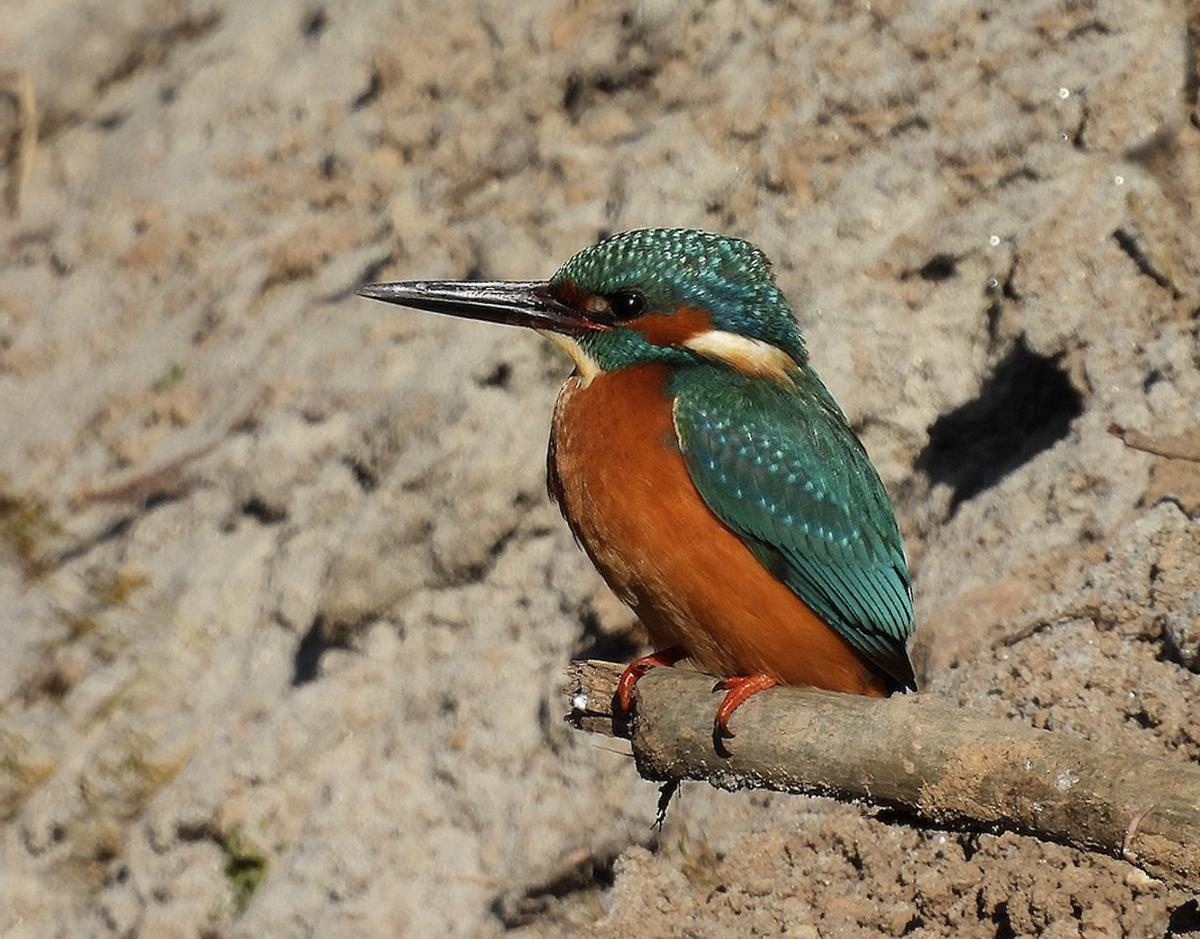kingfisher: (340, 225, 925, 737)
